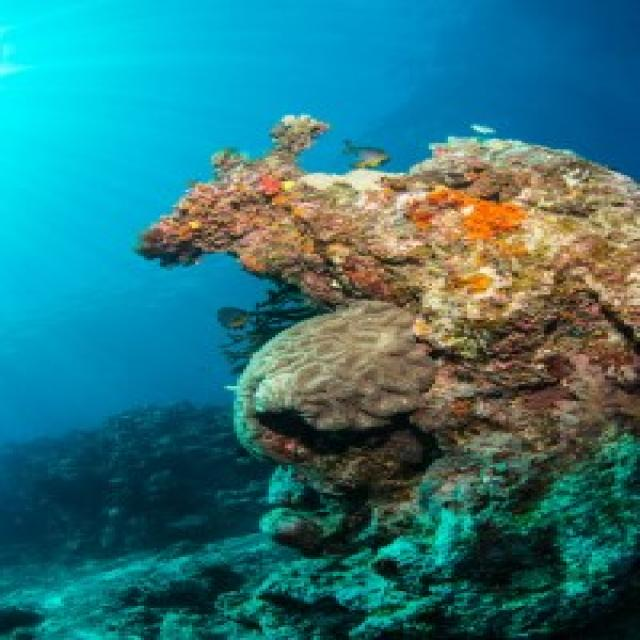Bleached: (235, 302, 436, 455)
Healthy: (382, 138, 638, 400), (139, 116, 324, 266), (404, 187, 526, 246)
